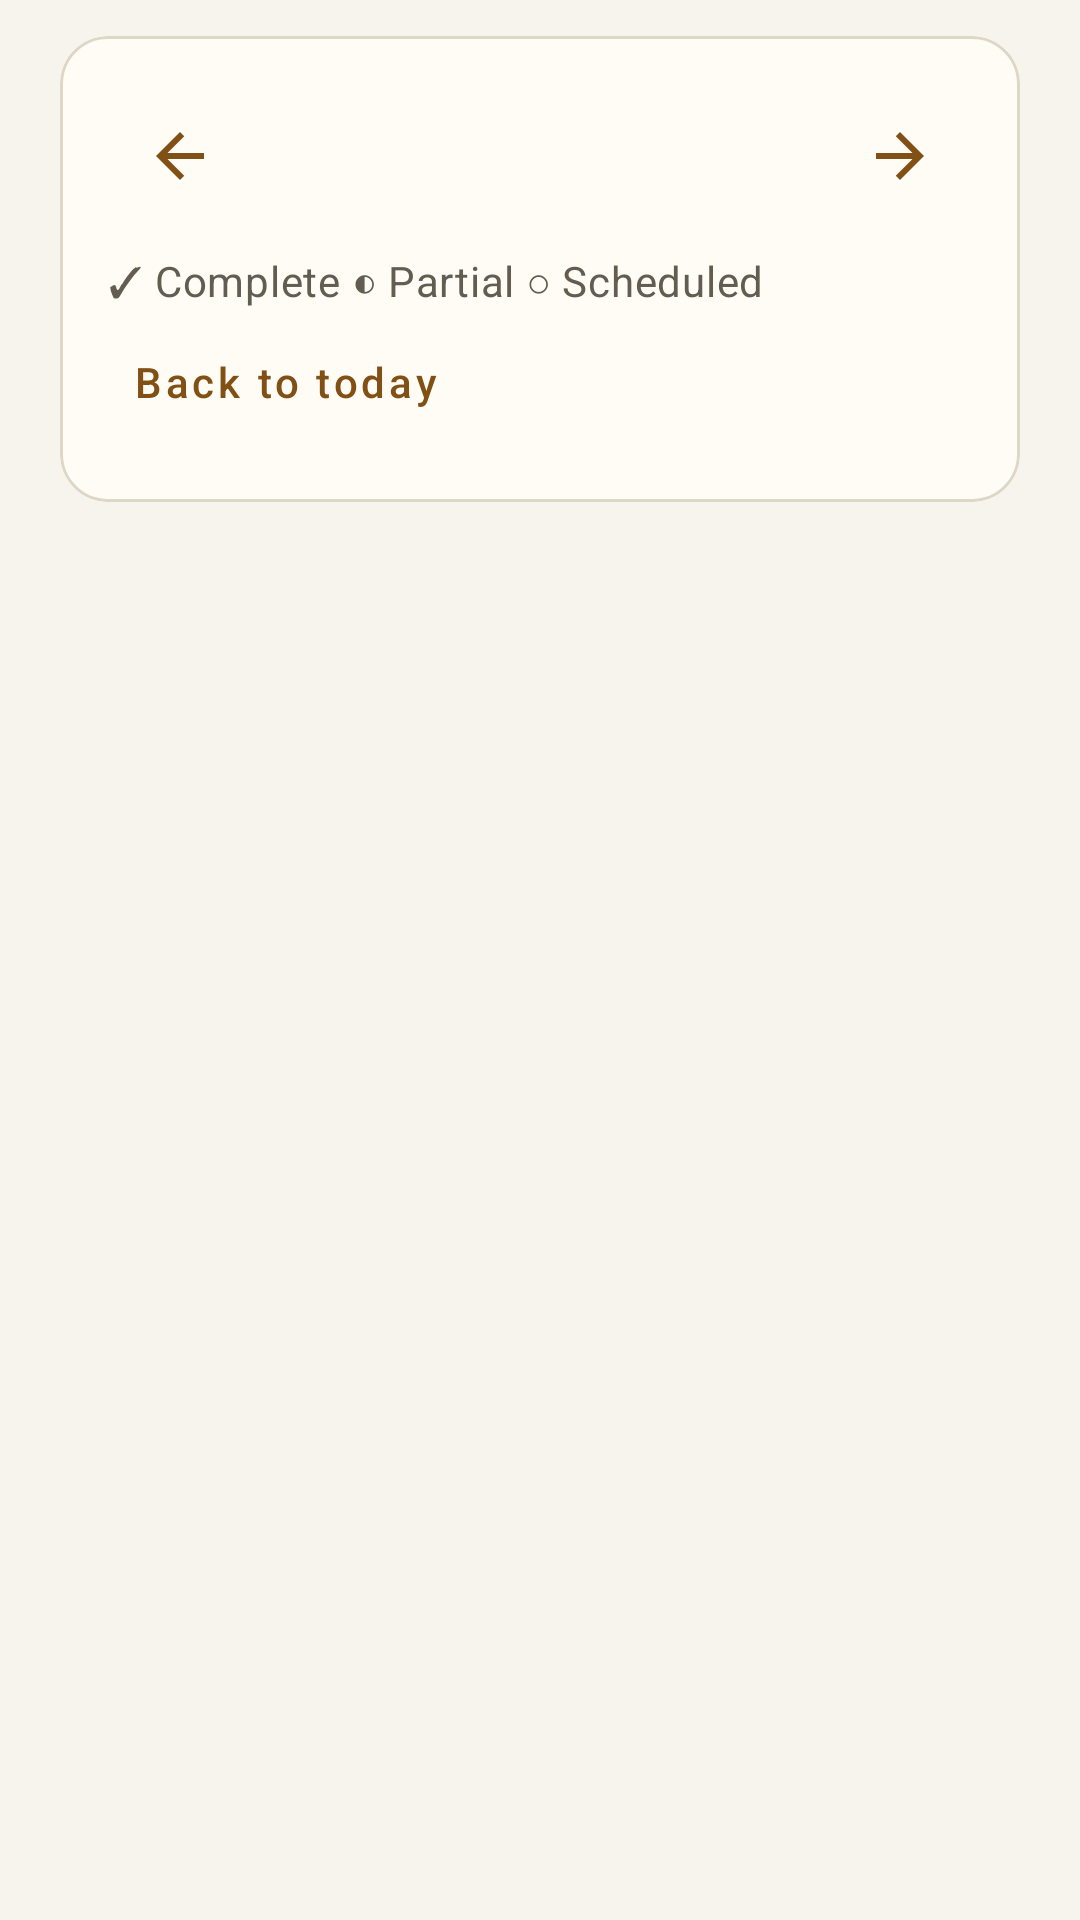

Icon bounding boxes for this 1080px x 1920px phone screenshot, format [left=x1, top=y1, right=x2, bottom=y2]:
Previous month: [left=156, top=132, right=204, bottom=180]
